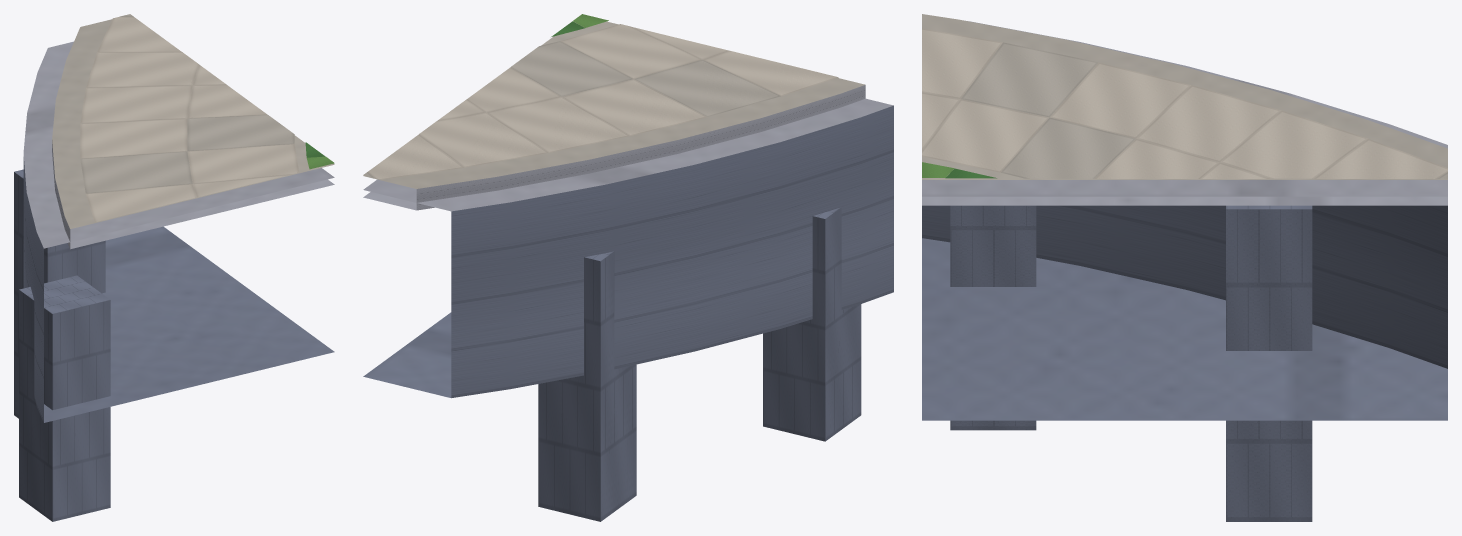
Rendered from high_crown_fracture_02.obj.
The picture shows the model from 3 angles, left to right: view 1: azimuth 30°, elevation 25°; view 2: azimuth 150°, elevation 25°; view 3: azimuth 270°, elevation 25°; orthographic projection. The views are drawn at different scales.
Visible parts, largest first — view 1: ArenaFracture02; view 2: ArenaFracture02; view 3: ArenaFracture02.
Part boxes in pixels (x1,y1,x2,y2): ArenaFracture02: [14, 14, 334, 521]; ArenaFracture02: [363, 14, 893, 521]; ArenaFracture02: [922, 14, 1447, 521].
Bounding box in the file's own units: 8.21 × 8.68 × 10.
Materials: 6 (6 with a texture image).
